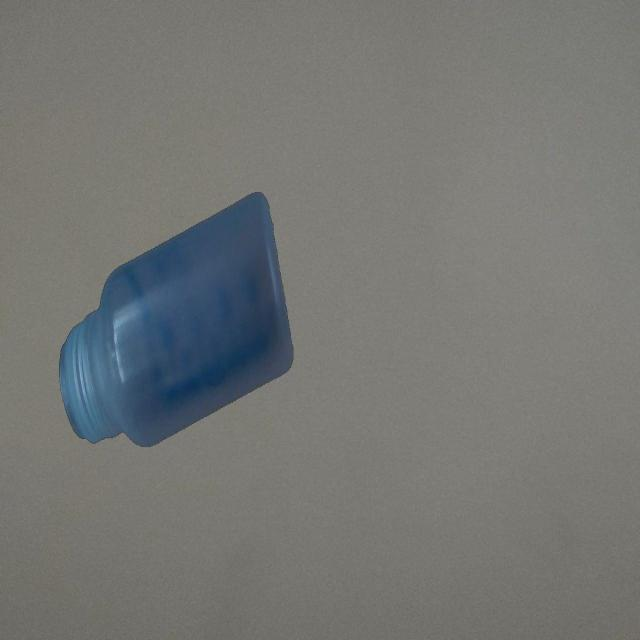bottle: (57, 186, 296, 455)
